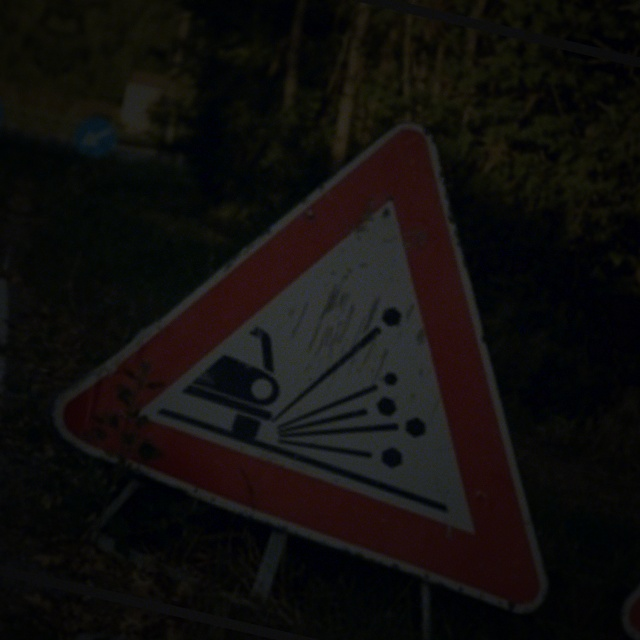Loose_Gravel: (58, 69, 609, 587)
